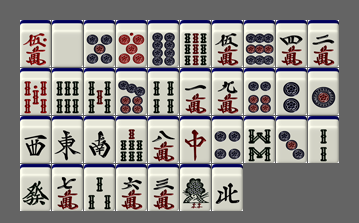0m: (20, 20, 51, 67)
0p: (116, 20, 147, 67)
0s: (20, 68, 51, 115)
1m: (180, 68, 211, 115)
1p: (308, 68, 339, 115)
1s: (180, 164, 211, 211)
1z: (52, 116, 83, 163)
2m: (308, 20, 339, 67)
2p: (276, 68, 307, 115)
2s: (308, 116, 339, 163)
2z: (84, 116, 115, 163)
3m: (148, 164, 179, 211)
3p: (276, 116, 307, 163)
3s: (84, 164, 115, 211)
3z: (20, 116, 51, 163)
4m: (276, 20, 307, 67)
4p: (212, 116, 243, 163)
4s: (148, 68, 179, 115)
4z: (212, 164, 243, 211)
5m: (212, 20, 243, 67)
5p: (84, 20, 115, 67)
5s: (84, 68, 115, 115)
5z: (52, 20, 83, 67)
6m: (116, 164, 147, 211)
6p: (244, 68, 275, 115)
6s: (52, 68, 83, 115)
6z: (20, 164, 51, 211)
7m: (52, 164, 83, 211)
7p: (116, 68, 147, 115)
7s: (116, 116, 147, 163)
7z: (180, 116, 211, 163)
8m: (148, 116, 179, 163)
8p: (148, 20, 179, 67)
8s: (244, 116, 275, 163)
9m: (212, 68, 243, 115)
9p: (244, 20, 275, 67)
9s: (180, 20, 211, 67)
